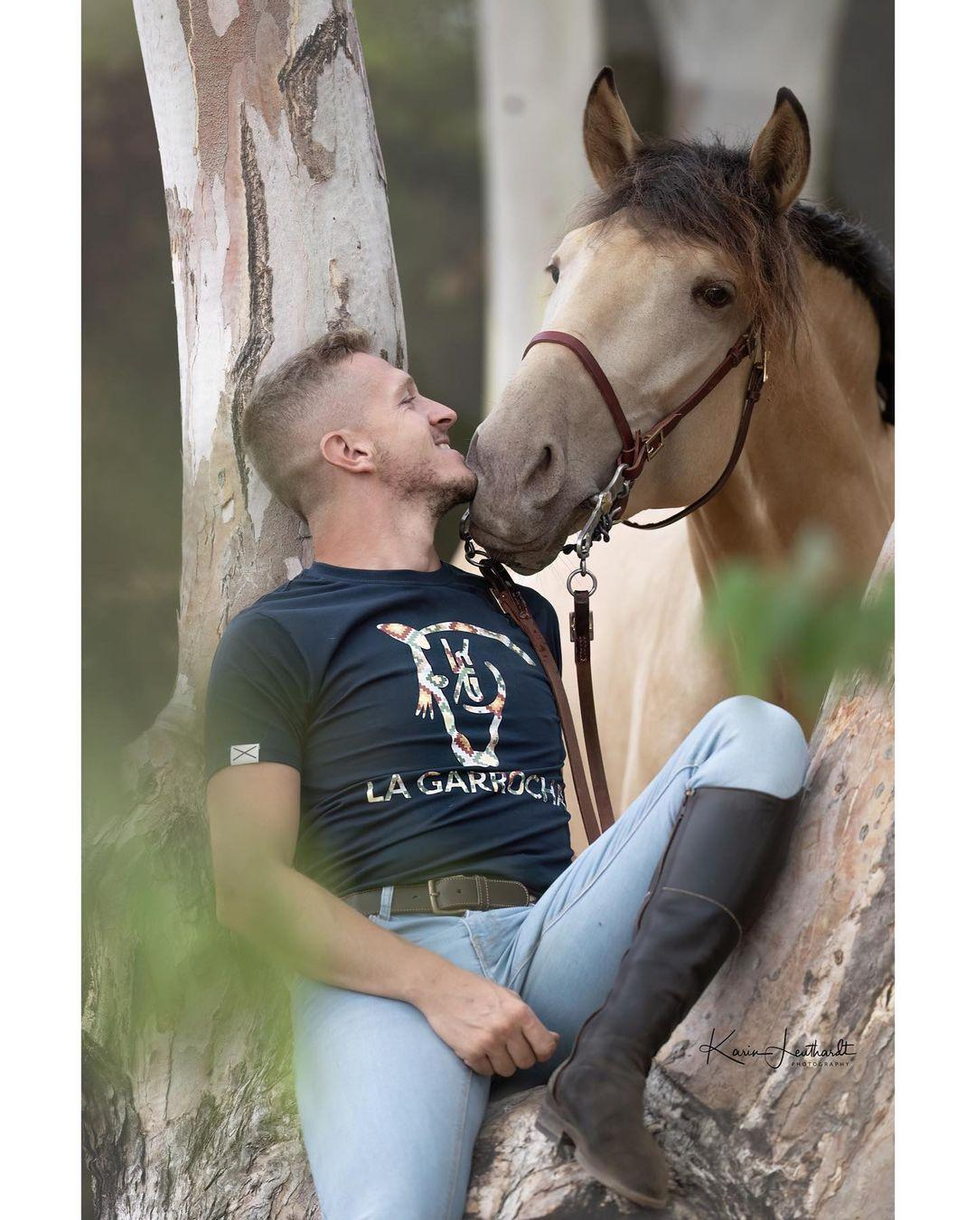horse: (460, 65, 893, 862)
